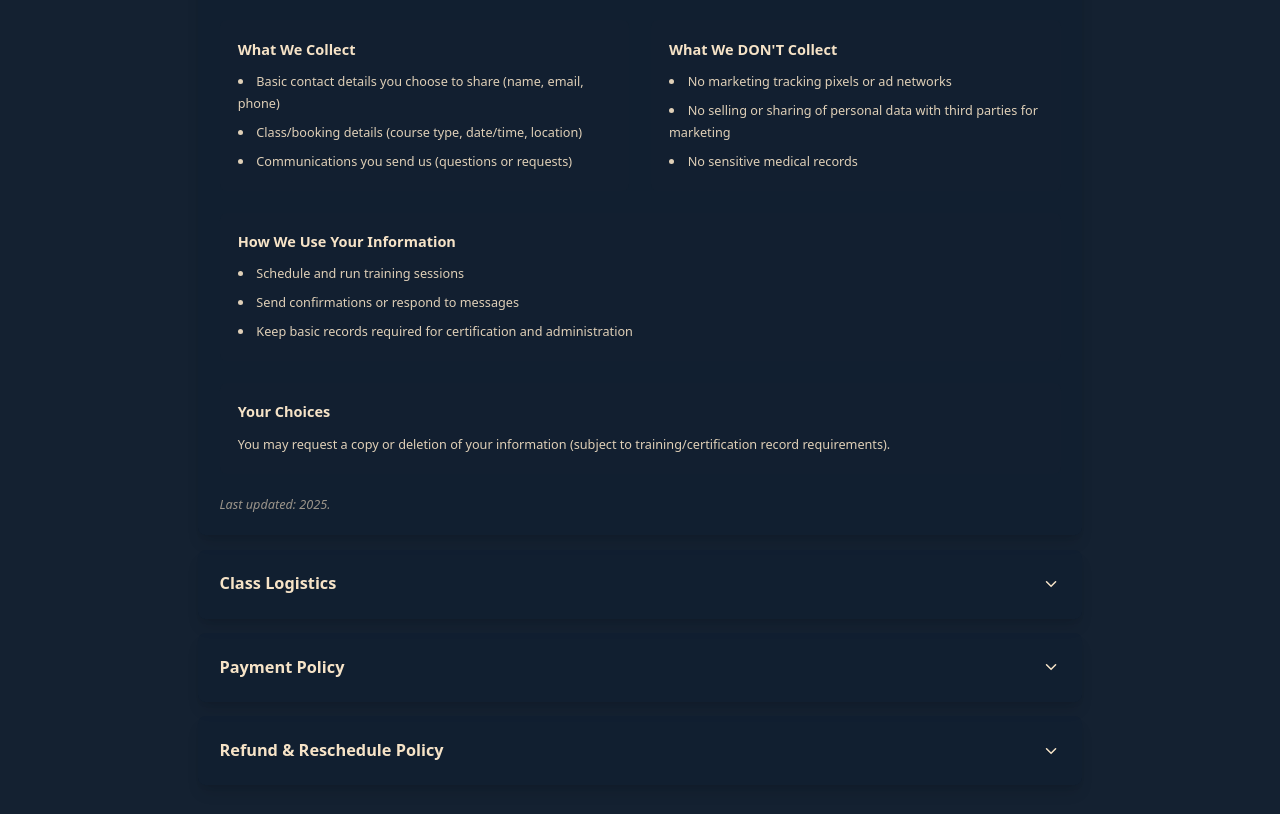
Test: PoliciesSection › closes the previous section when opening a new one (single-open behavior)
This screenshot has width=1280, height=814.
(page scrolled)
Note: Click on Payment Policy
Click the button "Payment Policy" at point(282, 667), box x1=198 y1=633 x2=1082 y2=702
(page scrolled)
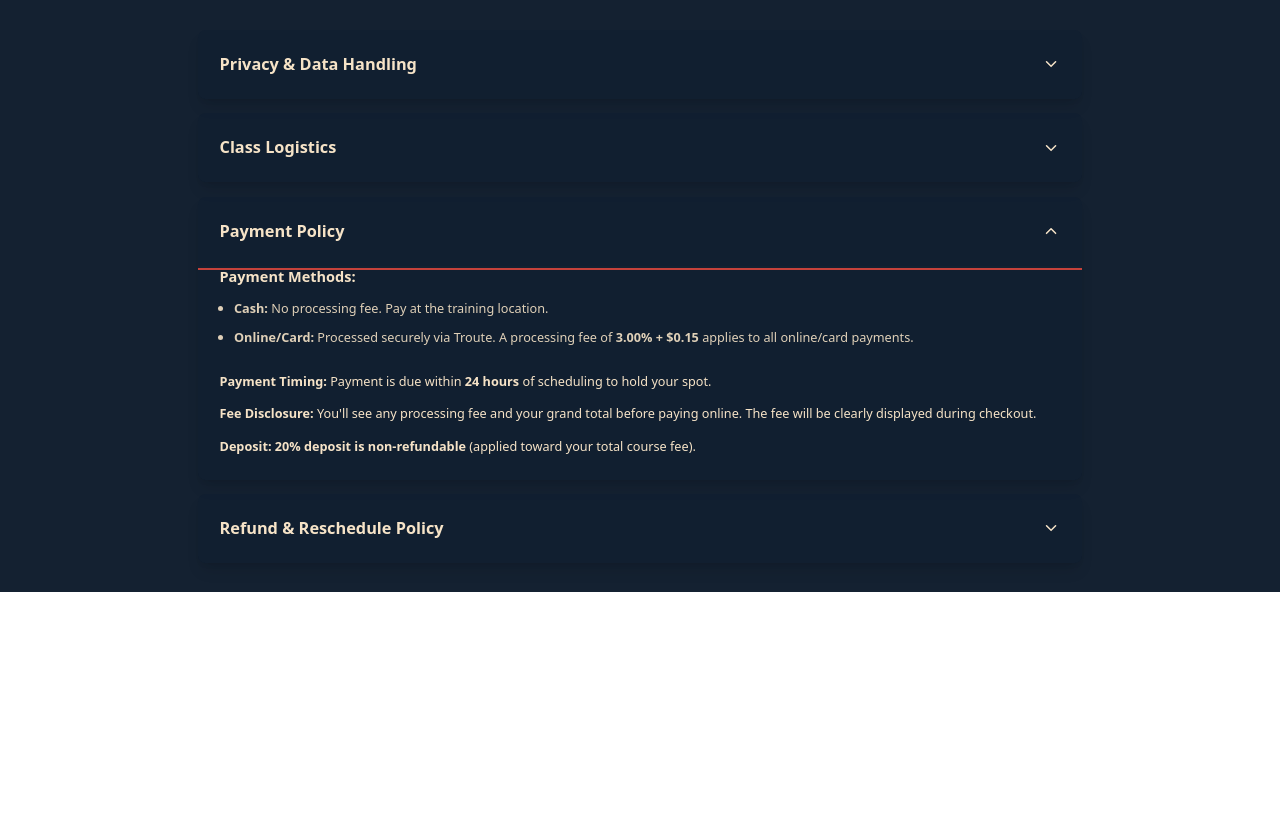
Expected: the button "Privacy & Data Handling" is collapsed, x1=198 y1=30 x2=1082 y2=99
Expected: the button "Payment Policy" is expanded, x1=198 y1=197 x2=1082 y2=266
